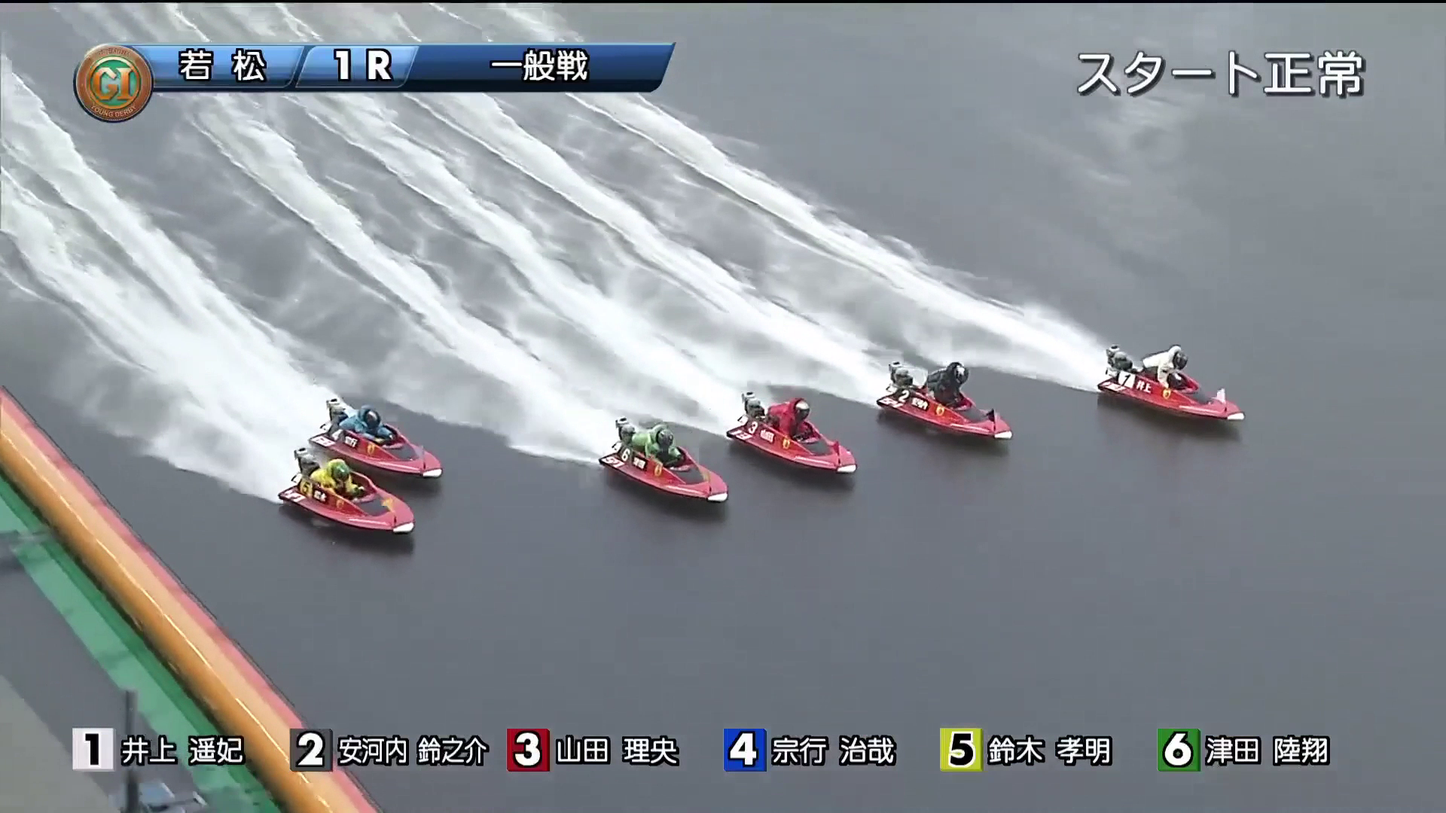１号艇: (1115, 352, 1242, 403)
２号艇: (894, 369, 1015, 425)
３号艇: (753, 425, 883, 467)
４号艇: (622, 450, 739, 511)
５号艇: (334, 426, 457, 481)
６号艇: (330, 506, 429, 562)
